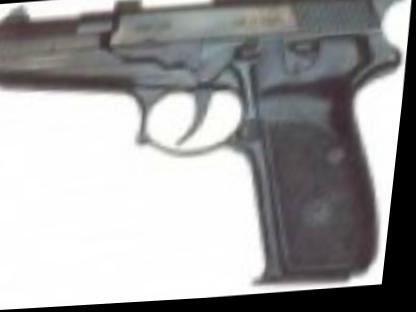pistol: (0, 0, 408, 311)
